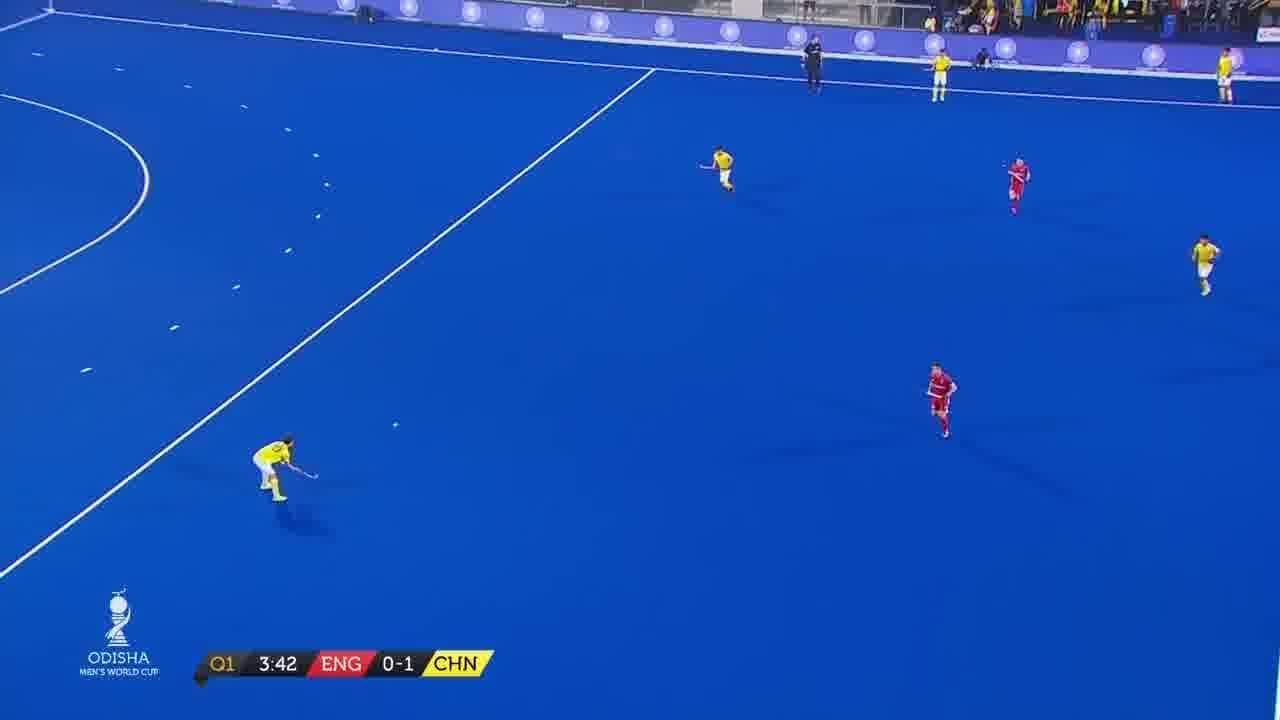ball: (389, 422, 402, 428)
